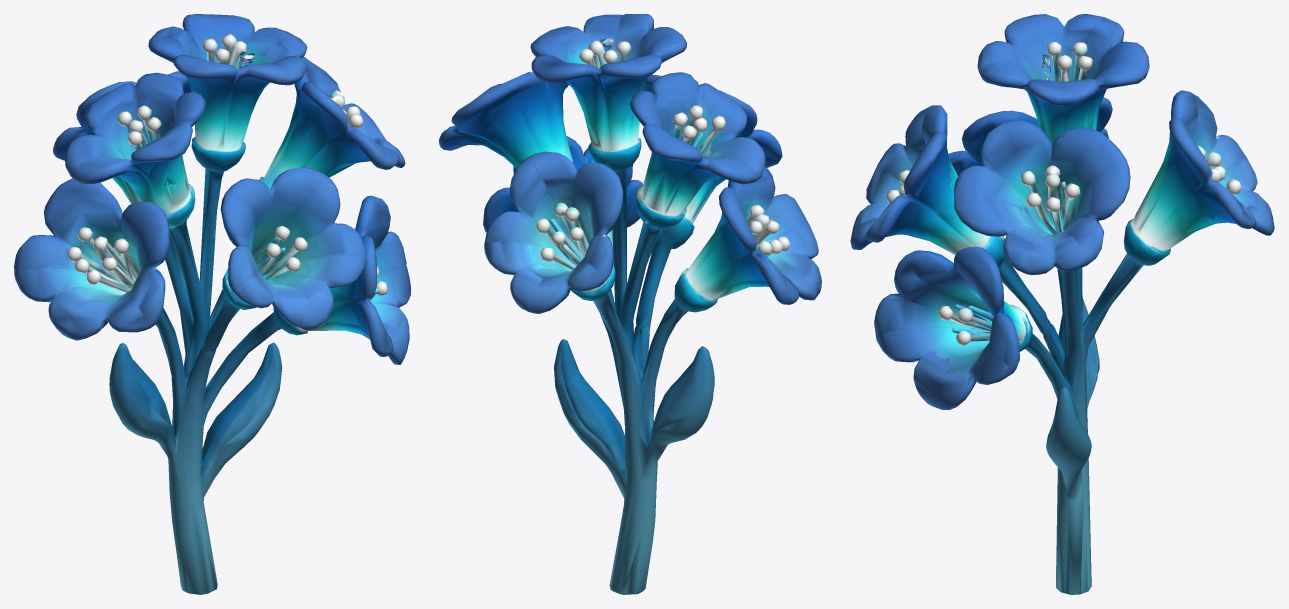
Rendered from blue_flower.glb.
The picture shows the model from 3 angles, left to right: view 1: azimuth 30°, elevation 25°; view 2: azimuth 150°, elevation 25°; view 3: azimuth 270°, elevation 25°; orthographic projection. The views are drawn at different scales.
Visible parts, largest first — view 1: node_0; view 2: node_0; view 3: node_0.
Part boxes in pixels (x1,y1,x2,y2): node_0: (14,14,410,594); node_0: (439,14,821,594); node_0: (850,14,1274,594).
Size of the model in its own units: 0.8021 by 1.18 by 0.8115.
Materials: 1 (1 with a texture image).
